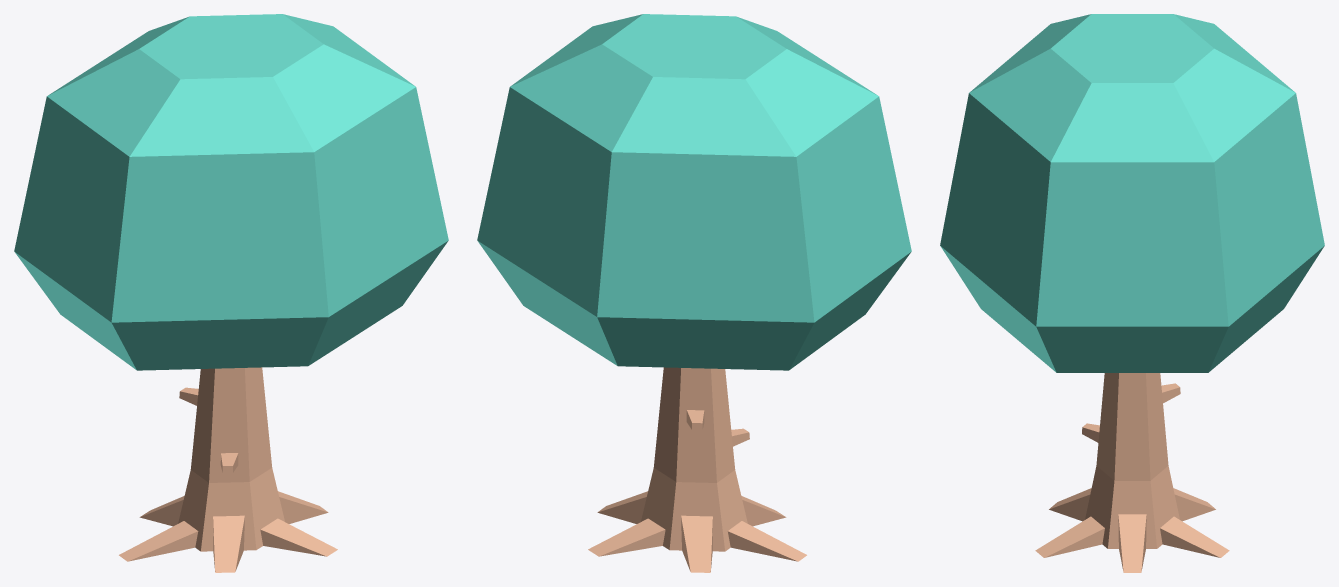
File: oak.glb
The picture shows the model from 3 angles, left to right: view 1: azimuth 30°, elevation 25°; view 2: azimuth 150°, elevation 25°; view 3: azimuth 270°, elevation 25°; orthographic projection.
Parts seen in each view (by area): view 1: part-0, part-1; view 2: part-0, part-1; view 3: part-0, part-1.
Part boxes in pixels (bbox=[...]): part-0: bbox=[14, 14, 448, 370]; part-1: bbox=[119, 367, 337, 572]; part-0: bbox=[477, 14, 911, 370]; part-1: bbox=[588, 367, 806, 572]; part-0: bbox=[940, 14, 1324, 372]; part-1: bbox=[1035, 373, 1229, 572].
Size of the model in its own units: 8 by 11 by 8.
